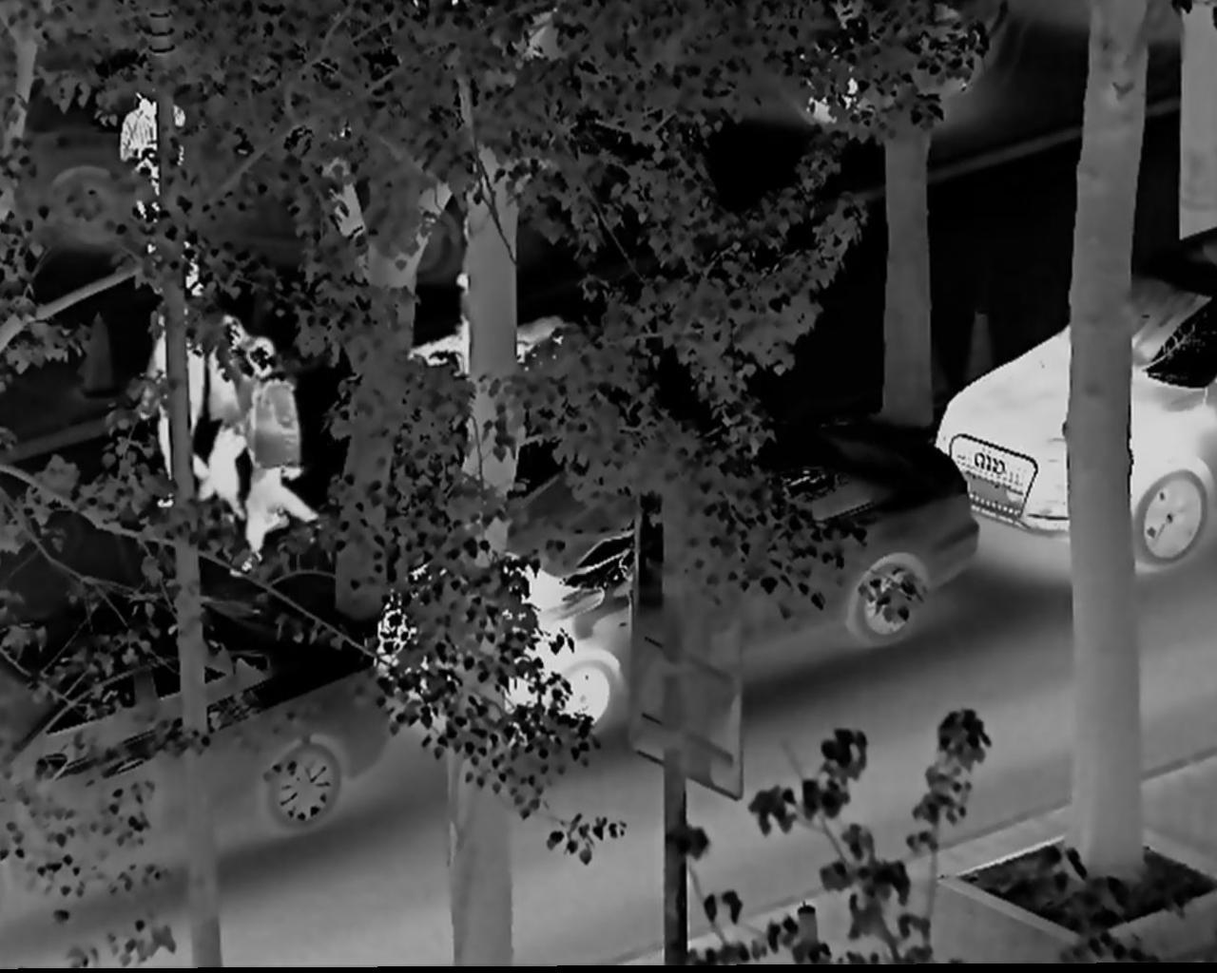person: (235, 338, 321, 571), (117, 91, 199, 303), (141, 311, 211, 504), (203, 315, 265, 518)
